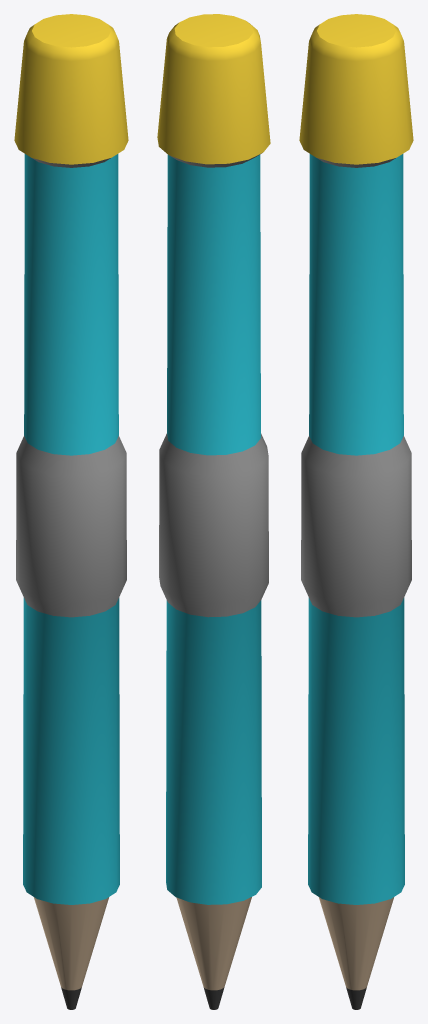
The model's file is Pen03.fbx.
3 views of the same model, side by side, from view 1: azimuth 90°, elevation 25°; view 2: azimuth 150°, elevation 25°; view 3: azimuth 270°, elevation 25° (orthographic).
Parts seen in each view (by area): view 1: Pen03; view 2: Pen03; view 3: Pen03.
Part boxes in pixels (bbox=[...]): Pen03: bbox=[14, 14, 128, 1009]; Pen03: bbox=[157, 14, 270, 1009]; Pen03: bbox=[299, 14, 413, 1009].
Bounding box in the file's own units: 0.0125 × 0.0125 × 0.1186.
